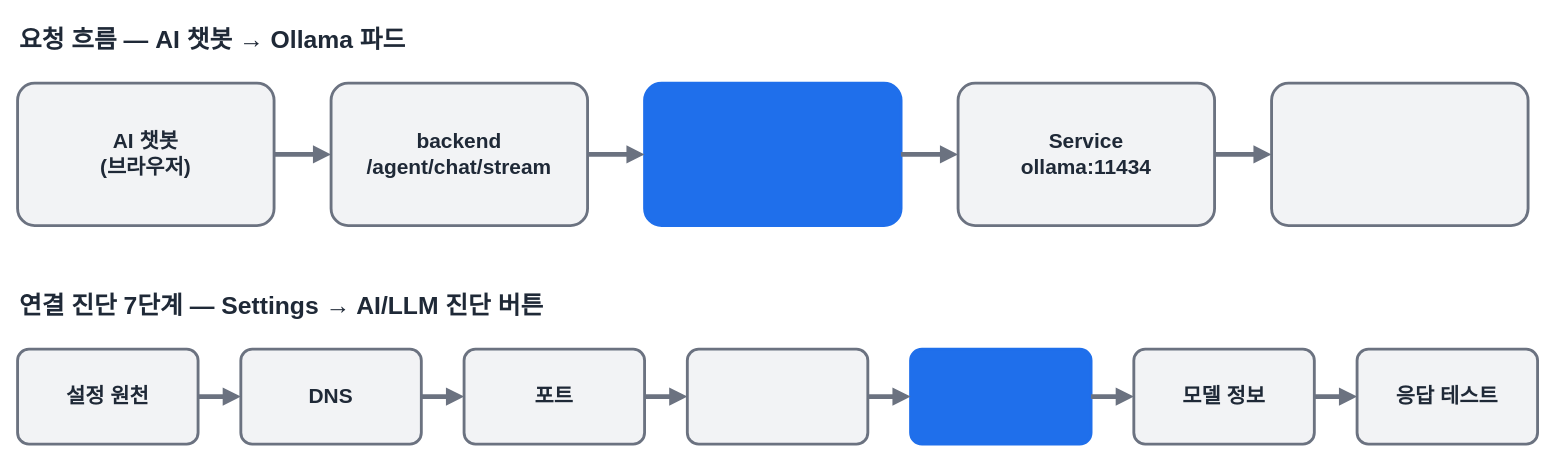
The diagram is 1555 pixels wide and 462 high, and some of its shapes have lost their labels. The shapes that lost their labels are listed below. From the top down, each one's centre as x and y in pixels, then its label:
At pixel 772 154: "LLM 게이트웨이 DB 설정 > env 모델명 자동 해석".
At pixel 1399 154: "Ollama 파드 pep-k8s-ops qwen2.5-coder:7b".
At pixel 777 396: "서버".
At pixel 1000 396: "모델 확인".
